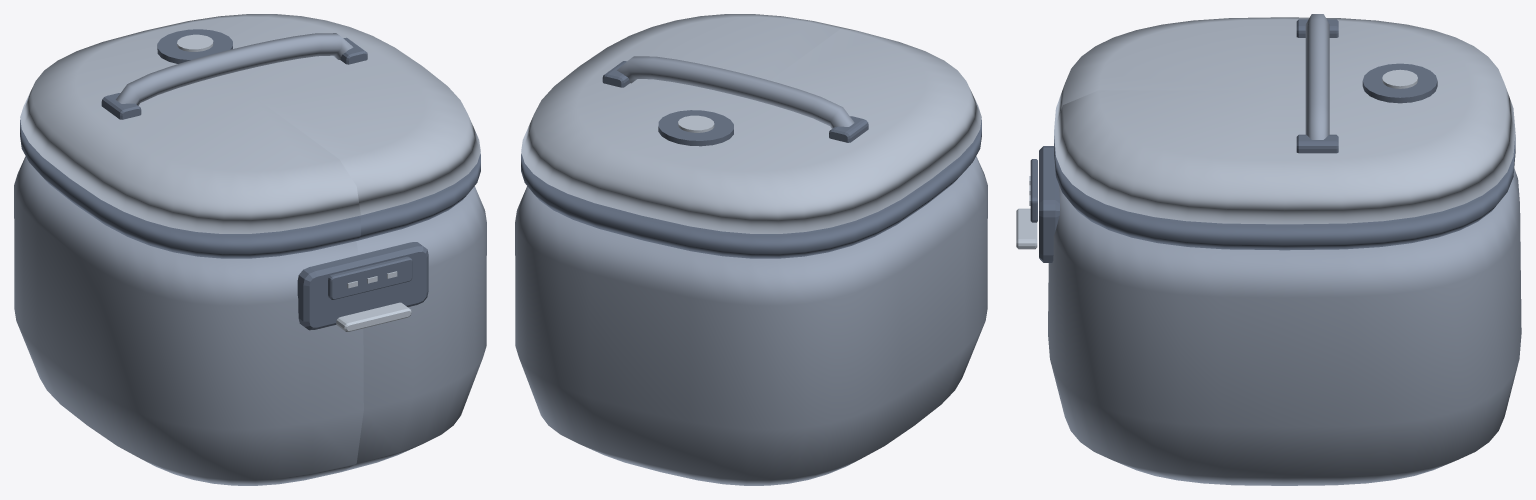
File: 电饭煲-lite.glb
3 renders of one model, left to right at view 1: azimuth 30°, elevation 25°; view 2: azimuth 150°, elevation 25°; view 3: azimuth 270°, elevation 25°, orthographic. The views are drawn at different scales.
Visible parts, largest first — view 1: body, soft, dark, light; view 2: body, soft, dark, light; view 3: body, soft, dark, light.
Part boxes in pixels (<box>): body: <box>14,33,486,485</box>; soft: <box>20,14,480,233</box>; dark: <box>20,29,480,330</box>; light: <box>177,34,411,331</box>; body: <box>515,56,987,485</box>; soft: <box>521,14,981,233</box>; dark: <box>521,61,981,258</box>; light: <box>678,115,714,132</box>; body: <box>1048,14,1521,485</box>; soft: <box>1054,17,1515,224</box>; dark: <box>1030,19,1515,262</box>; light: <box>1016,69,1417,249</box>.
Size of the model in its own units: 0.28 by 0.25 by 0.32.
